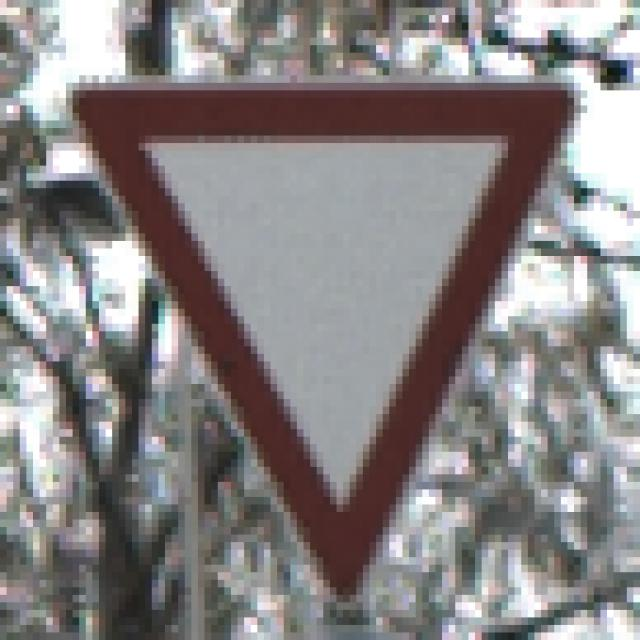Give Way: (61, 62, 589, 589)
